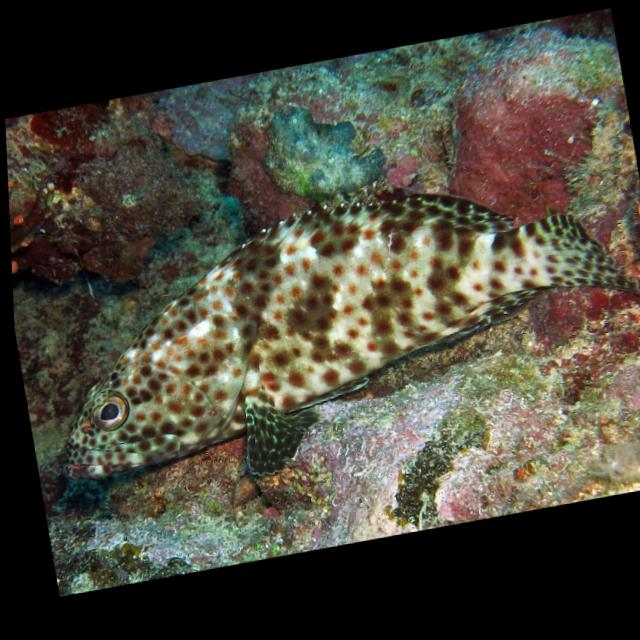Groupers: (19, 144, 640, 513)
